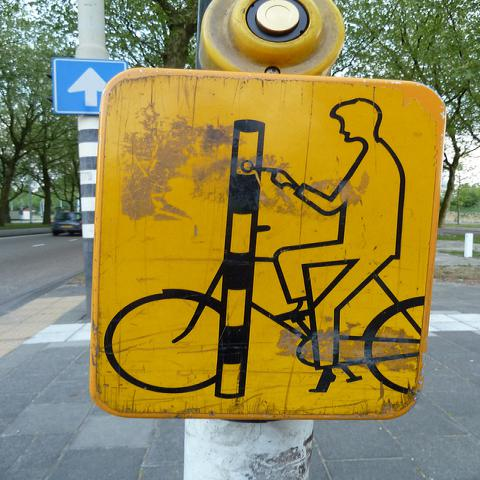car: (52, 212, 82, 236)
